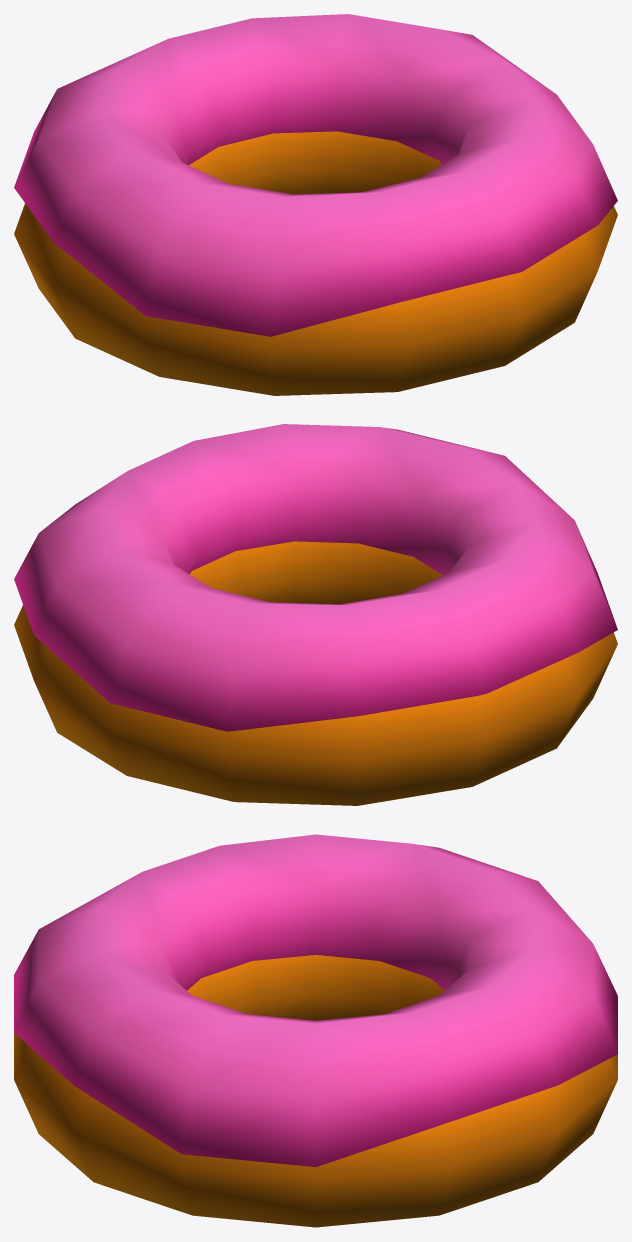
Rendered from SM_Donut_1.1.fbx.
The picture shows the model from 3 angles, top to bottom: view 1: azimuth 30°, elevation 25°; view 2: azimuth 150°, elevation 25°; view 3: azimuth 270°, elevation 25°; orthographic projection. The views are drawn at different scales.
Parts seen in each view (by area): view 1: SM_Donut_1.1; view 2: SM_Donut_1.1; view 3: SM_Donut_1.1.
Part boxes in pixels (x1=…): SM_Donut_1.1: x1=14, y1=14, x2=617, y2=395; SM_Donut_1.1: x1=14, y1=424, x2=617, y2=805; SM_Donut_1.1: x1=14, y1=834, x2=617, y2=1227.
Bounding box in the file's own units: 13.63 × 4.94 × 13.28.
Materials: 1 (1 with a texture image).
